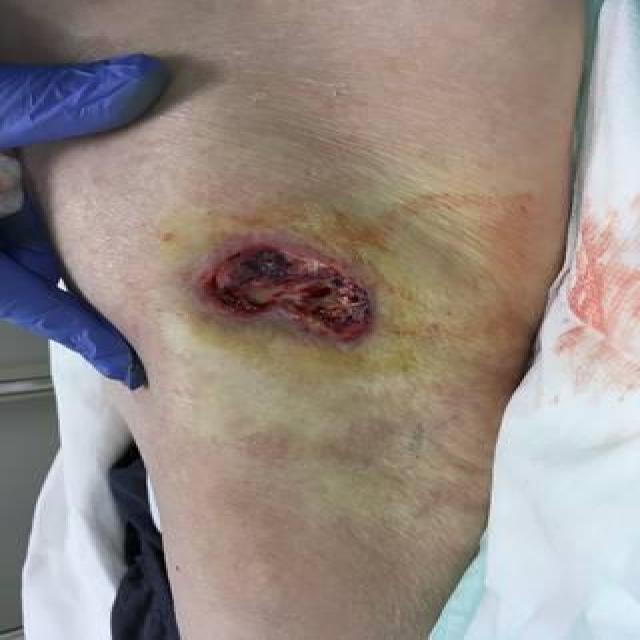Unstageable: (207, 246, 369, 341)
